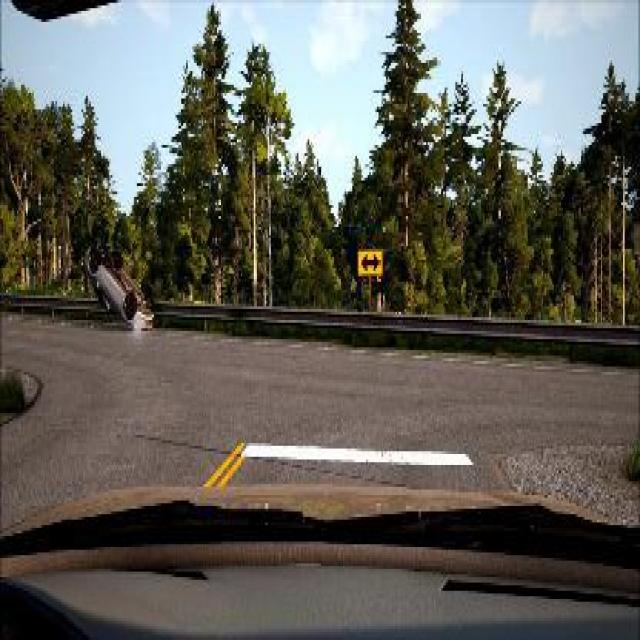accident: (77, 233, 157, 339)
